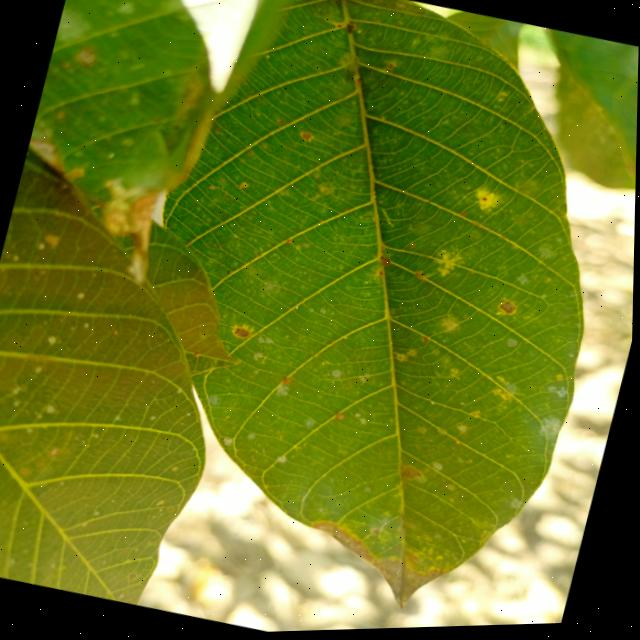Colletotrichum: (499, 302, 518, 318), (234, 328, 252, 340), (380, 258, 392, 269)
Leaf-Blight: (299, 518, 452, 621)
